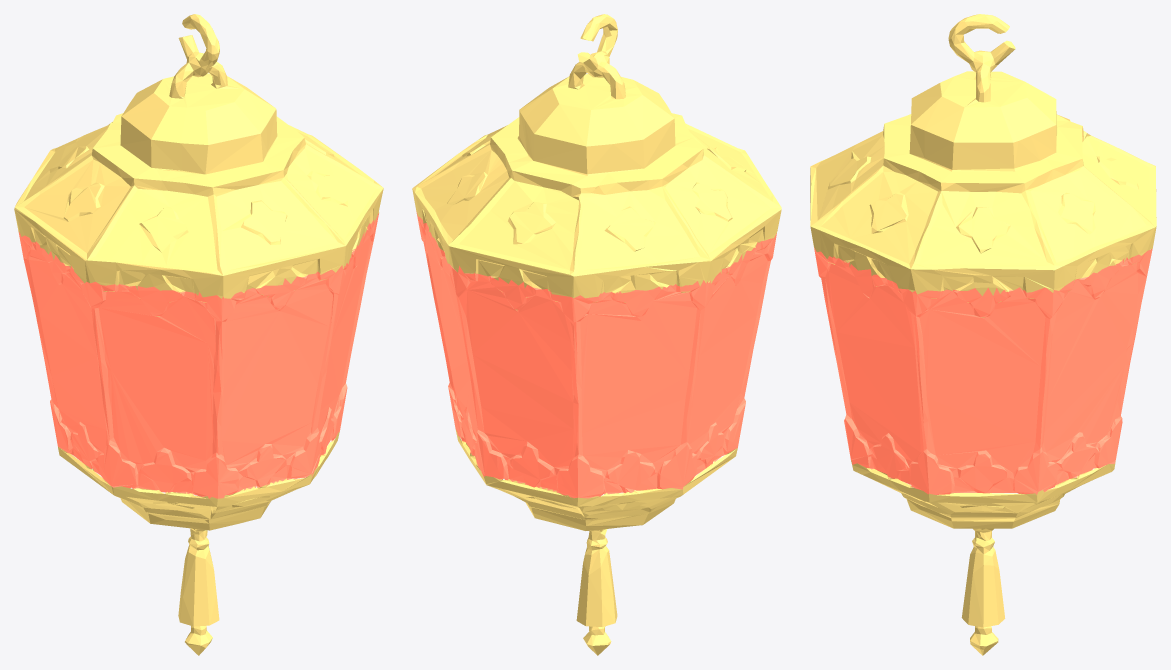
The model's file is meshy-lantern.glb.
3 views of the same model, side by side, from view 1: azimuth 30°, elevation 25°; view 2: azimuth 150°, elevation 25°; view 3: azimuth 270°, elevation 25° (orthographic).
Parts seen in each view (by area): view 1: mesh_node; view 2: mesh_node; view 3: mesh_node.
Boxes of the visible parts, box(x1,y1,x2,y2) form: mesh_node: box(14, 14, 383, 655); mesh_node: box(412, 14, 781, 655); mesh_node: box(810, 14, 1156, 655).
Bounding box in the file's own units: 0.9273 × 1.9 × 0.9274.
